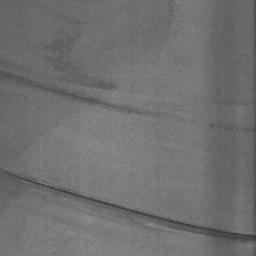Rolled pit: (0, 169, 256, 241), (0, 70, 249, 128), (59, 73, 114, 90)
